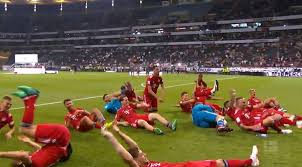10+: (1, 1, 302, 111)
down: (100, 125, 262, 167), (1, 86, 73, 167), (237, 96, 302, 136), (118, 94, 171, 129), (61, 98, 106, 130), (179, 83, 217, 110), (189, 105, 222, 127), (1, 91, 15, 137), (248, 88, 278, 104), (102, 94, 120, 111), (225, 99, 236, 116)
